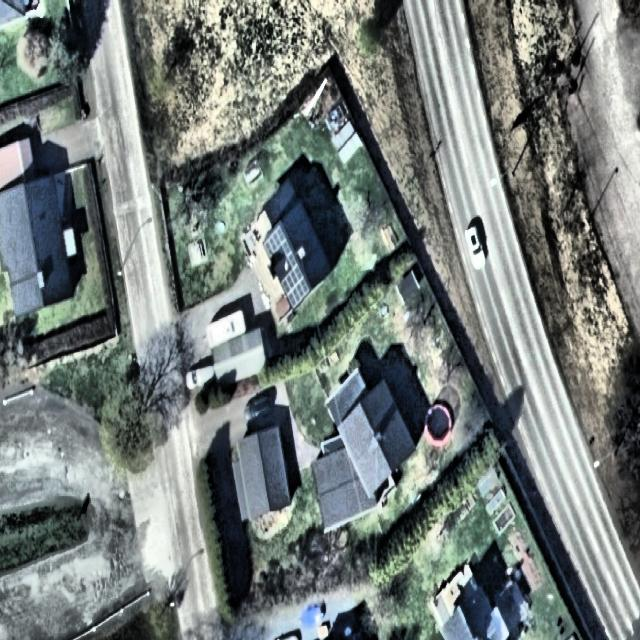roof_pv: (284, 266, 312, 310), (262, 226, 288, 258), (281, 244, 297, 272)
